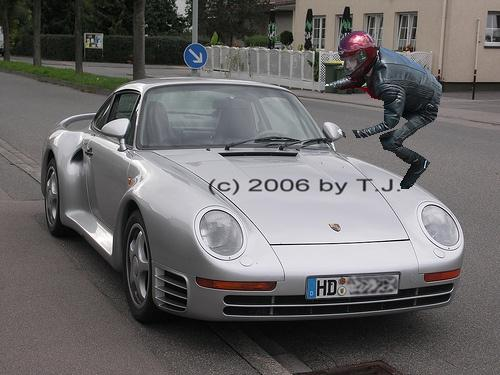tampered: (326, 31, 442, 189)
